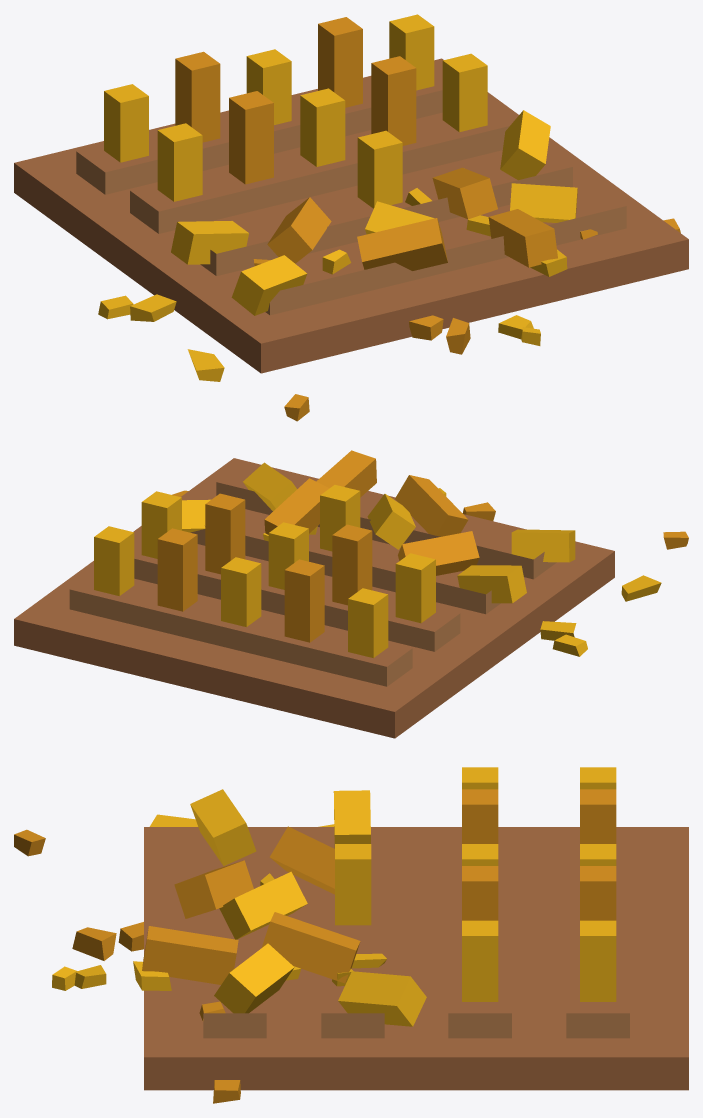
File: field_t1_v1_dmg1.glb
The picture shows the model from 3 angles, top to bottom: view 1: azimuth 30°, elevation 25°; view 2: azimuth 150°, elevation 25°; view 3: azimuth 270°, elevation 25°; orthographic projection. The views are drawn at different scales.
Parts seen in each view (by area): view 1: field_t1_v1_dmg1; view 2: field_t1_v1_dmg1; view 3: field_t1_v1_dmg1.
Part boxes in pixels (bbox=[...]): field_t1_v1_dmg1: bbox=[14, 14, 688, 421]; field_t1_v1_dmg1: bbox=[14, 450, 688, 738]; field_t1_v1_dmg1: bbox=[14, 767, 688, 1103].
Bounding box in the file's own units: 0.7253 × 0.17 × 0.7433.
Materials: 1 (1 with a texture image).
